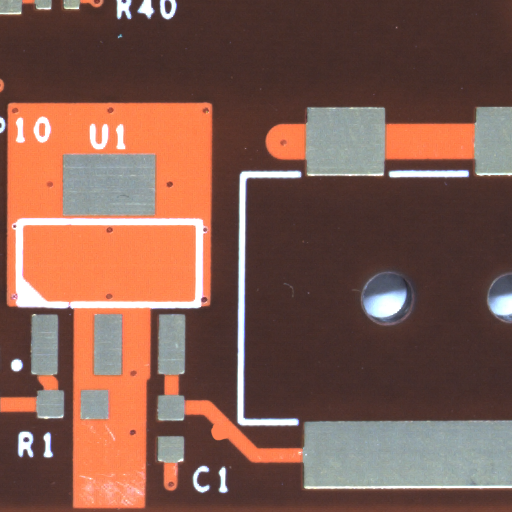Spur: (218, 432, 235, 449)
